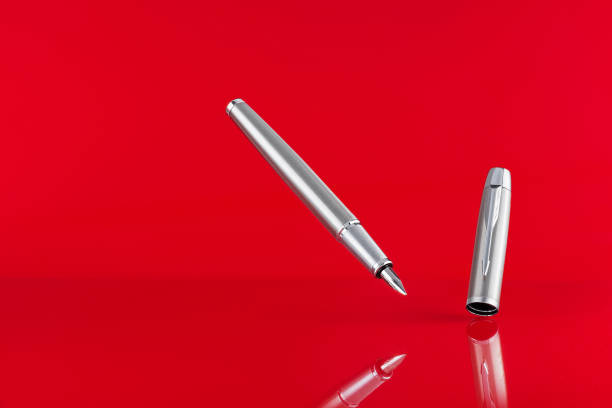pen: (220, 95, 541, 320)
